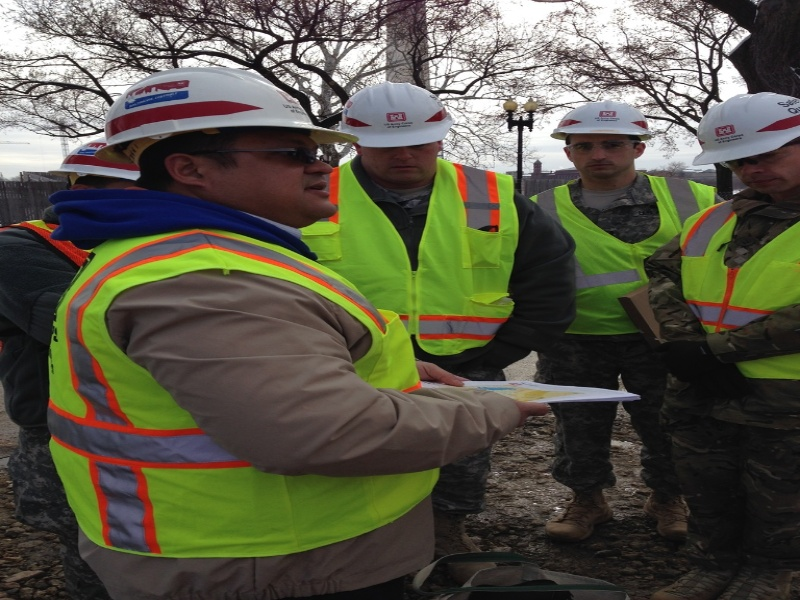Baret: (105, 67, 360, 147), (341, 82, 457, 145), (697, 93, 800, 149), (554, 100, 654, 139)
